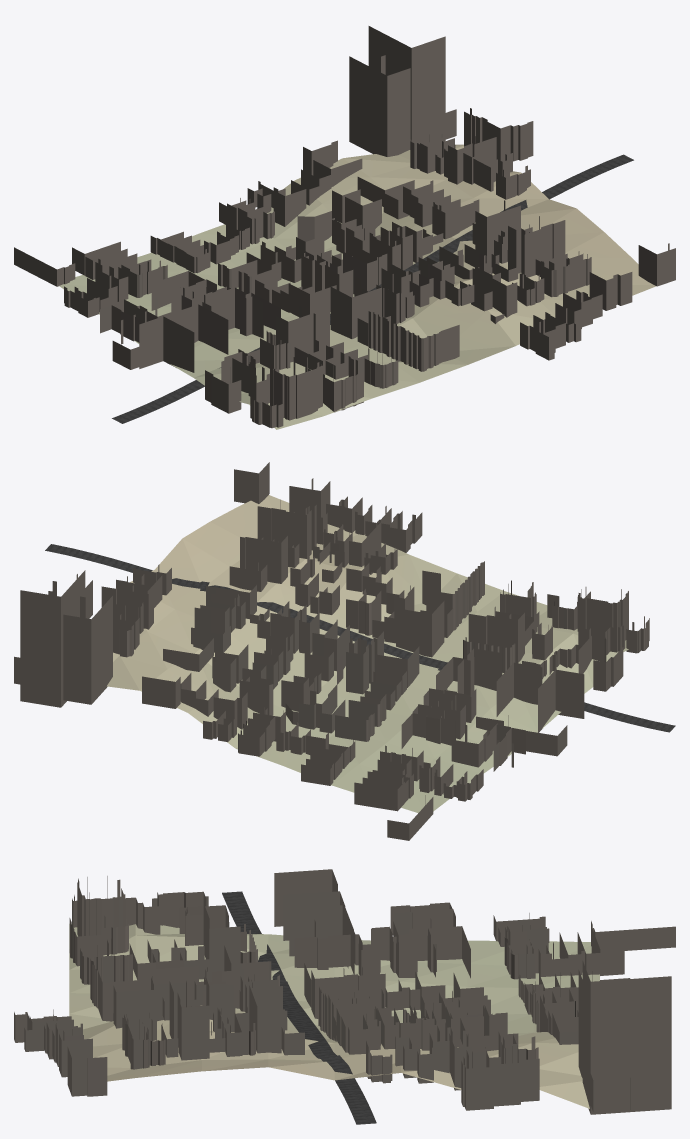
The model's file is tile_31_-41_lod1.gltf.
3 views of the same model, one above another, from view 1: azimuth 30°, elevation 25°; view 2: azimuth 150°, elevation 25°; view 3: azimuth 270°, elevation 25° (orthographic). The views are drawn at different scales.
Parts seen in each view (by area): view 1: Buildings_col, Terrain_col, Roads; view 2: Buildings_col, Terrain_col, Roads; view 3: Buildings_col, Terrain_col, Roads.
Part boxes in pixels (box(x1,y1,x2,y2)): Buildings_col: box(14, 26, 675, 428); Terrain_col: box(59, 144, 655, 429); Roads: box(112, 154, 633, 423); Buildings_col: box(14, 462, 649, 840); Terrain_col: box(107, 495, 628, 812); Roads: box(45, 544, 675, 732); Buildings_col: box(14, 869, 675, 1114); Terrain_col: box(69, 924, 599, 1108); Roads: box(222, 891, 376, 1124).
Bounding box in the file's own units: 381 × 101 × 319.
3 materials, 1 textured.
